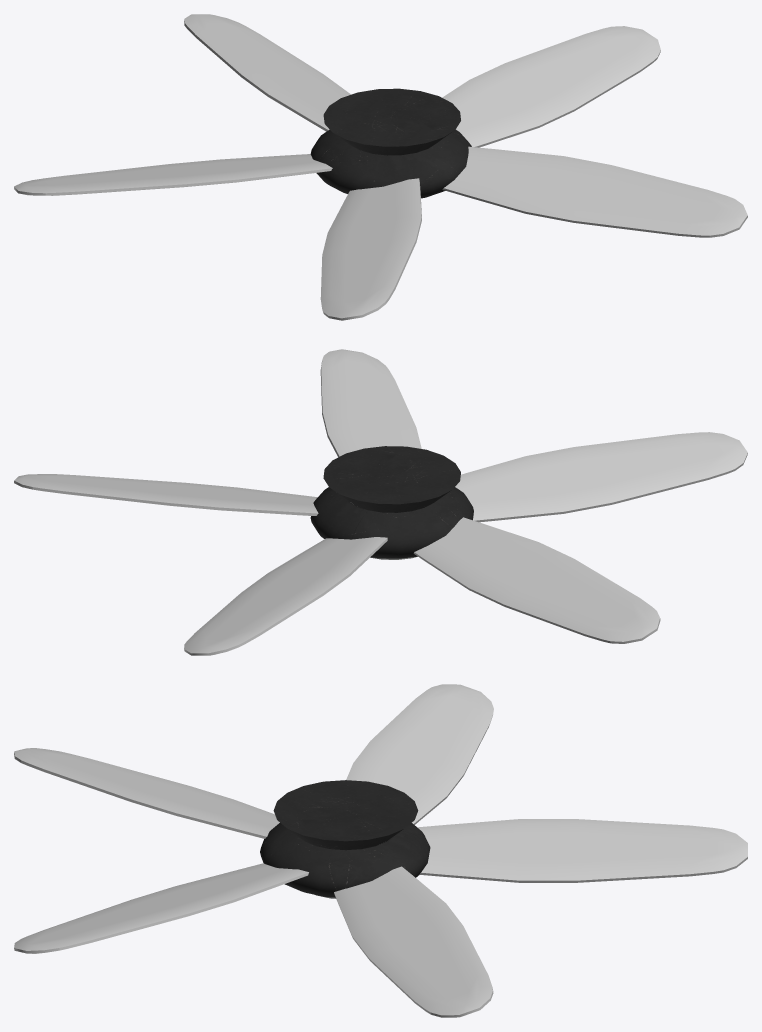
The model's file is fan.fbx.
3 views of the same model, one above another, from view 1: azimuth 30°, elevation 25°; view 2: azimuth 150°, elevation 25°; view 3: azimuth 270°, elevation 25° (orthographic). The views are drawn at different scales.
Visible parts, largest first — view 1: pasted__pasted__pCube3 (×2), pasted__pCube3 (×2), pCube3, pSphere1; view 2: pasted__pCube3 (×2), pasted__pasted__pCube3 (×2), pSphere1, pCube3; view 3: pasted__pCube3 (×2), pasted__pasted__pCube3 (×2), pSphere1, pCube3.
Part boxes in pixels (x1=…): pasted__pasted__pCube3 (×2): x1=14, y1=146, x2=747, y2=237; pasted__pCube3 (×2): x1=184, y1=14, x2=421, y2=320; pCube3: x1=442, y1=26, x2=660, y2=147; pSphere1: x1=310, y1=88, x2=471, y2=198; pasted__pCube3 (×2): x1=184, y1=432, x2=747, y2=655; pasted__pasted__pCube3 (×2): x1=320, y1=349, x2=660, y2=643; pSphere1: x1=310, y1=446, x2=473, y2=559; pCube3: x1=14, y1=474, x2=318, y2=515; pasted__pCube3 (×2): x1=14, y1=748, x2=747, y2=882; pasted__pasted__pCube3 (×2): x1=14, y1=684, x2=493, y2=953; pSphere1: x1=260, y1=780, x2=430, y2=898; pCube3: x1=334, y1=866, x2=493, y2=1017.
Size of the model in its own units: 1.19 by 0.1305 by 1.13.
